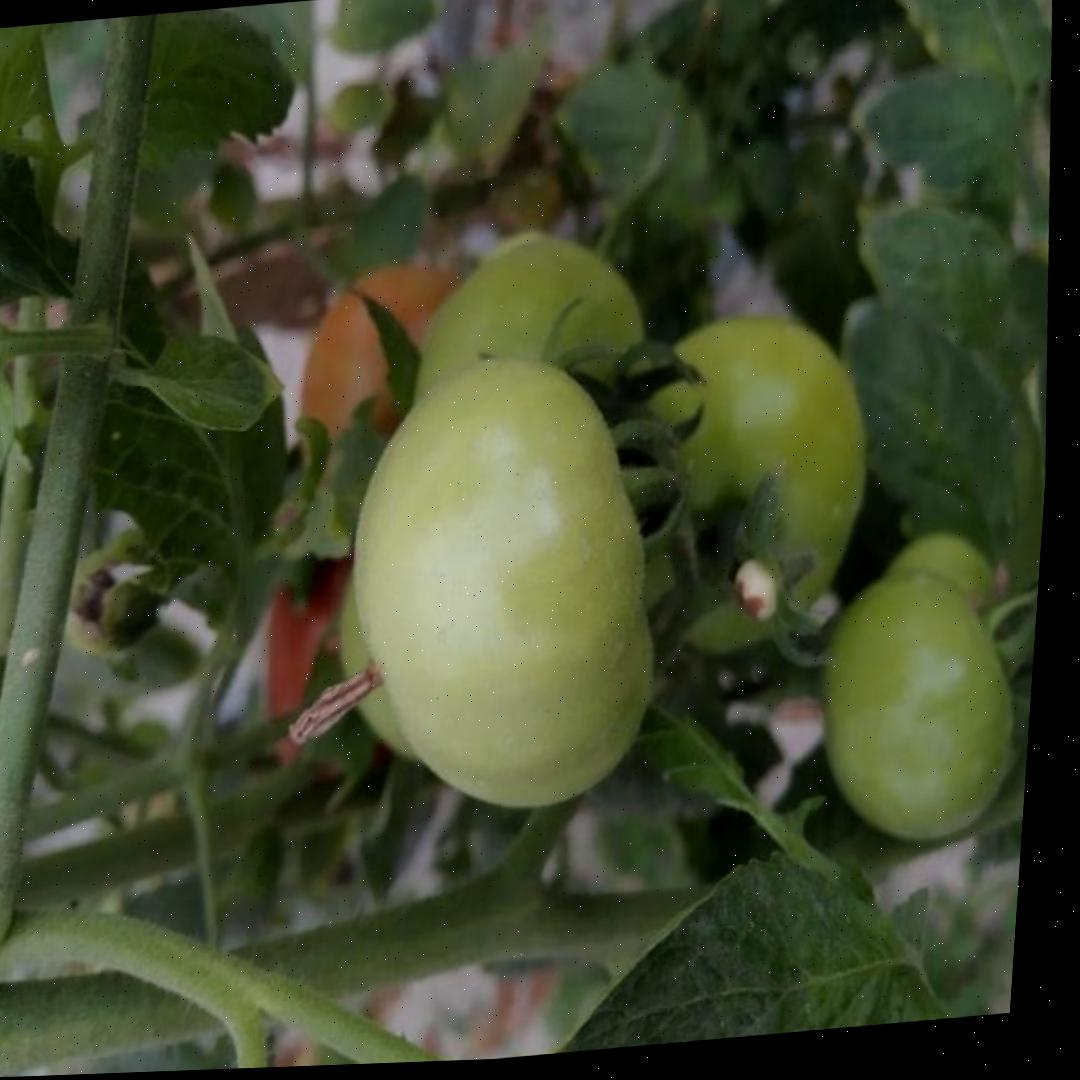mentah: (320, 335, 684, 832), (800, 559, 1031, 855)
